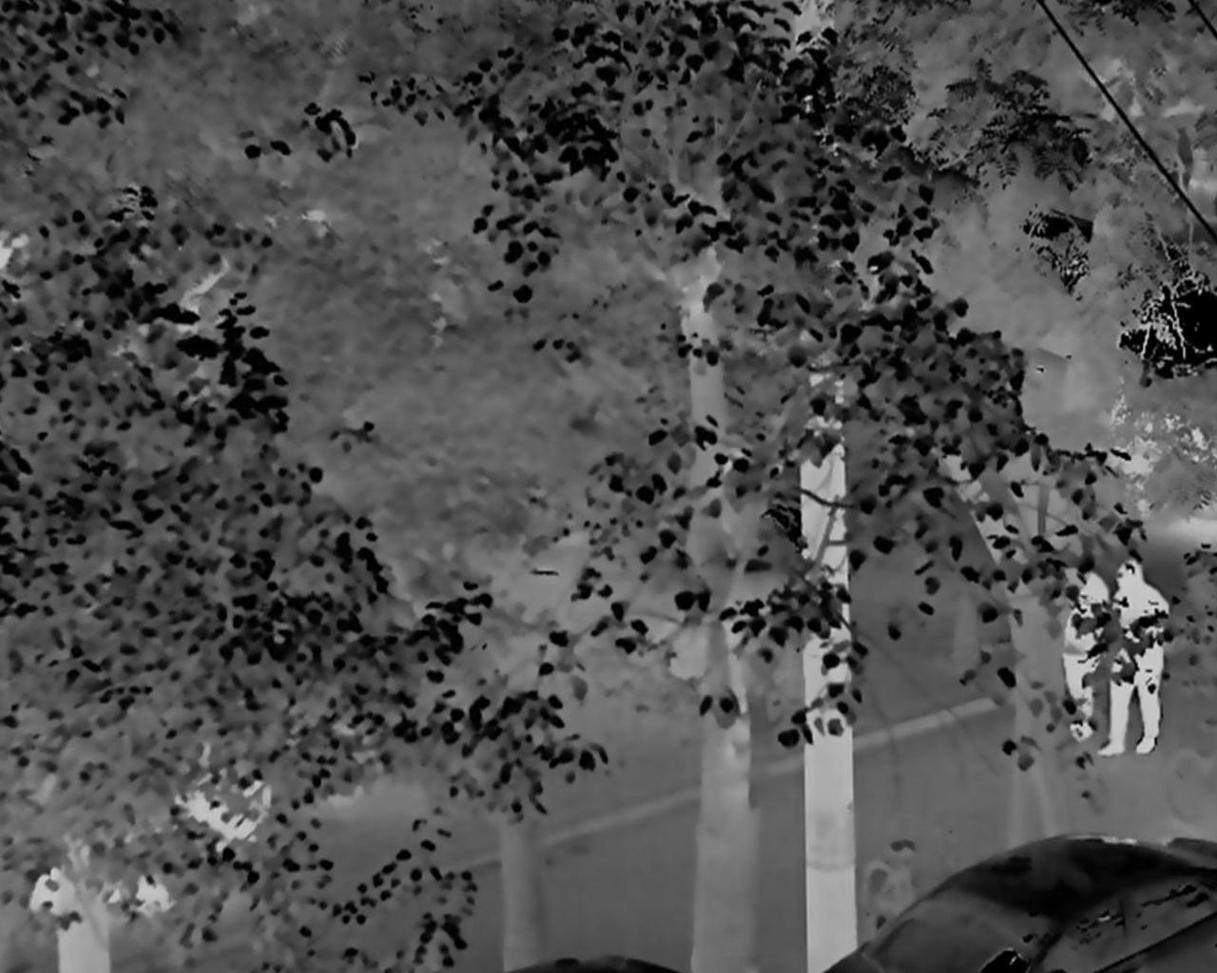person: (1107, 556, 1168, 763), (1056, 556, 1108, 739)
